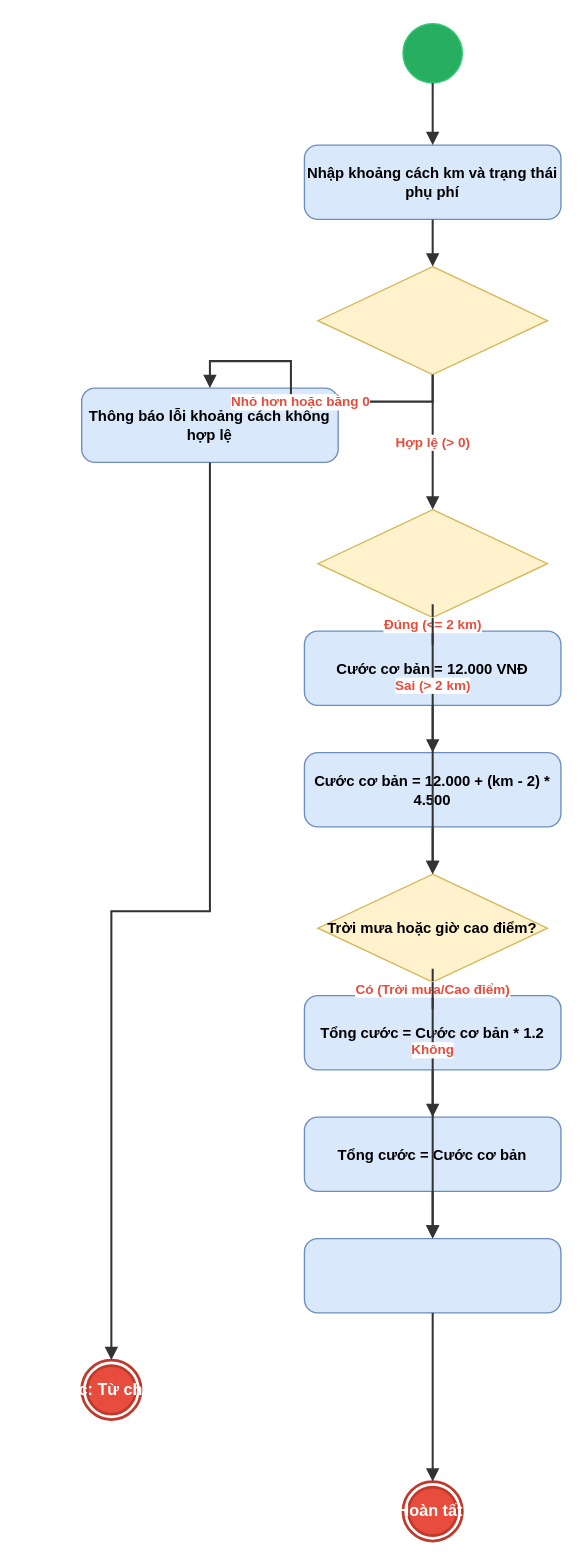
This 585x1566 diagram has some shape labels left out. The shapes that lost their labels are listed below. From the top down, each one's box as (x1, y1, x2, y2) in pixels, then its label:
(402, 22, 462, 83): Bắt đầu
(317, 265, 547, 375): Khoảng cách > 0?
(317, 508, 547, 618): Khoảng cách <= 2 km?
(303, 1237, 561, 1313): In chi tiết hóa đơn thanh toán
